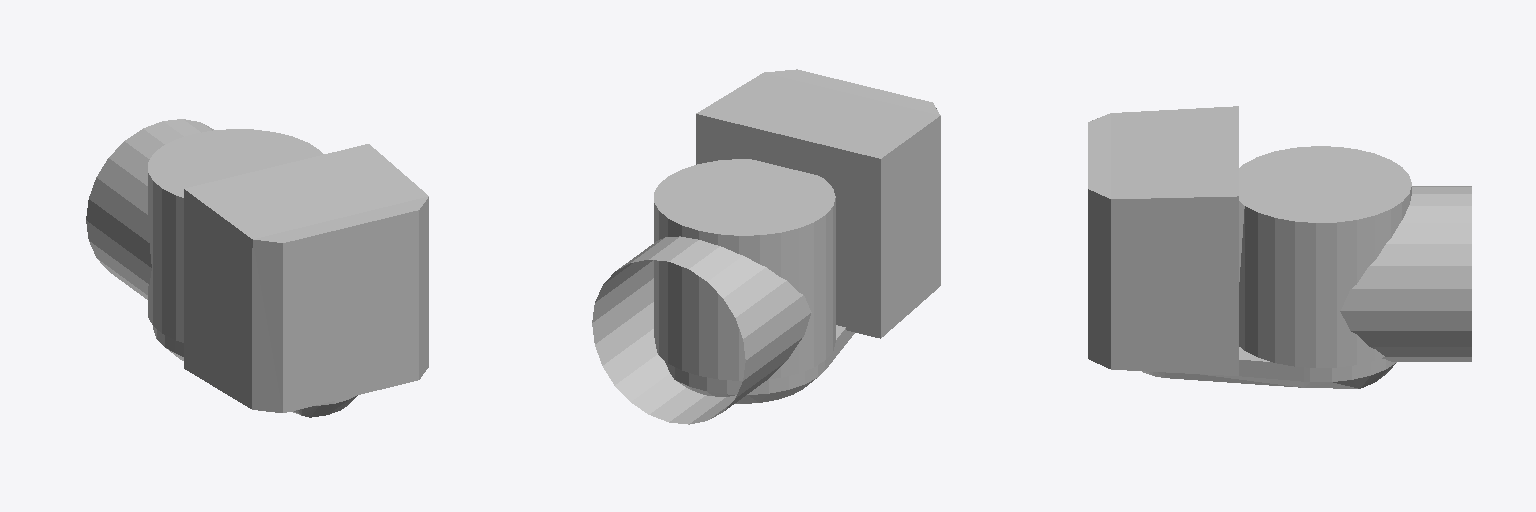
Rendered from LSY.obj.
The picture shows the model from 3 angles: view 1: azimuth 30°, elevation 25°; view 2: azimuth 150°, elevation 25°; view 3: azimuth 270°, elevation 25°; orthographic projection.
Visible parts, largest first — view 1: Shape_IndexedFaceSet.006_Shape_IndexedFaceSet.083, Shape_IndexedFaceSet.002_Shape_IndexedFaceSet.079, Shape_IndexedFaceSet.003_Shape_IndexedFaceSet.080, Shape_IndexedFaceSet.005_Shape_IndexedFaceSet.082, Shape_IndexedFaceSet_Shape_IndexedFaceSet.077; view 2: Shape_IndexedFaceSet.006_Shape_IndexedFaceSet.083, Shape_IndexedFaceSet.002_Shape_IndexedFaceSet.079, Shape_IndexedFaceSet.003_Shape_IndexedFaceSet.080, Shape_IndexedFaceSet_Shape_IndexedFaceSet.077, Shape_IndexedFaceSet.001_Shape_IndexedFaceSet.078; view 3: Shape_IndexedFaceSet.006_Shape_IndexedFaceSet.083, Shape_IndexedFaceSet.002_Shape_IndexedFaceSet.079, Shape_IndexedFaceSet.003_Shape_IndexedFaceSet.080, Shape_IndexedFaceSet_Shape_IndexedFaceSet.077.
Part boxes in pixels (x1,y1,x2,y2): Shape_IndexedFaceSet.006_Shape_IndexedFaceSet.083: (184, 144, 428, 412); Shape_IndexedFaceSet.002_Shape_IndexedFaceSet.079: (148, 129, 323, 342); Shape_IndexedFaceSet.003_Shape_IndexedFaceSet.080: (86, 119, 213, 299); Shape_IndexedFaceSet.005_Shape_IndexedFaceSet.082: (252, 240, 282, 412); Shape_IndexedFaceSet_Shape_IndexedFaceSet.077: (153, 326, 357, 417); Shape_IndexedFaceSet.006_Shape_IndexedFaceSet.083: (696, 69, 940, 338); Shape_IndexedFaceSet.002_Shape_IndexedFaceSet.079: (654, 159, 835, 380); Shape_IndexedFaceSet.003_Shape_IndexedFaceSet.080: (592, 236, 811, 424); Shape_IndexedFaceSet_Shape_IndexedFaceSet.077: (664, 325, 854, 403); Shape_IndexedFaceSet.001_Shape_IndexedFaceSet.078: (682, 235, 698, 375); Shape_IndexedFaceSet.006_Shape_IndexedFaceSet.083: (1088, 106, 1238, 375); Shape_IndexedFaceSet.002_Shape_IndexedFaceSet.079: (1239, 146, 1411, 367); Shape_IndexedFaceSet.003_Shape_IndexedFaceSet.080: (1340, 186, 1471, 361); Shape_IndexedFaceSet_Shape_IndexedFaceSet.077: (1142, 358, 1396, 388).
Size of the model in its own units: 0.0867 by 0.0938 by 0.156.